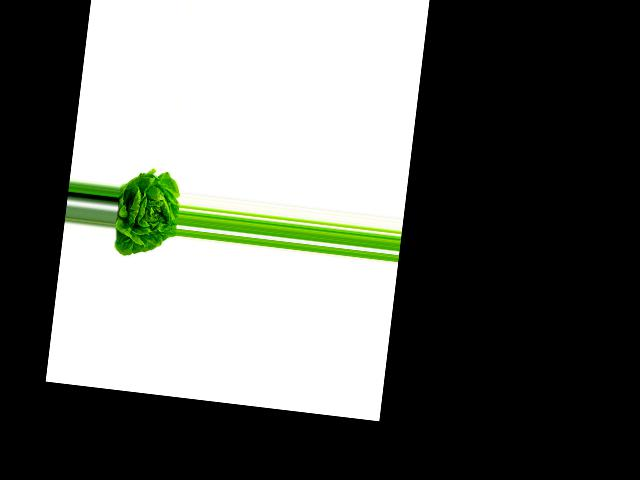lettuce: (111, 168, 182, 262)
